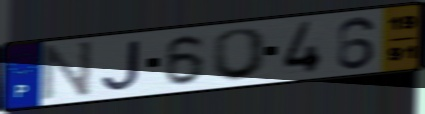4: (280, 19, 324, 76)
6: (335, 14, 377, 72), (164, 33, 208, 87)
J: (99, 38, 142, 92)
N: (38, 39, 96, 103)
O: (210, 26, 271, 82)
